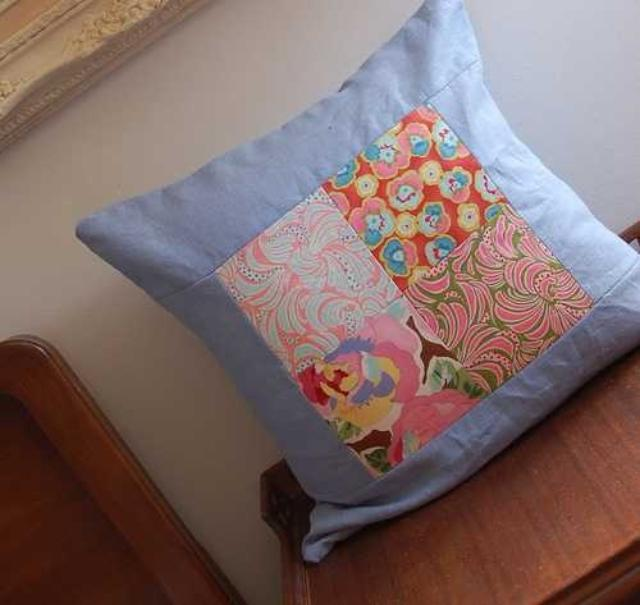pillow: (74, 1, 638, 564)
